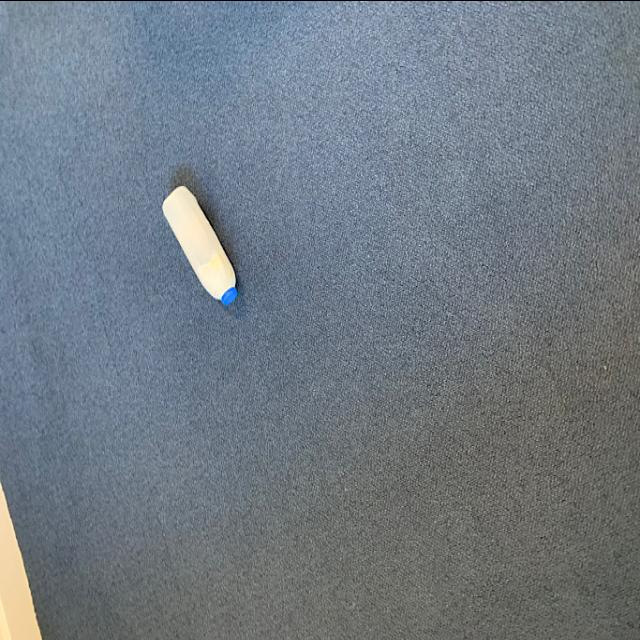litter: (162, 182, 240, 306)
